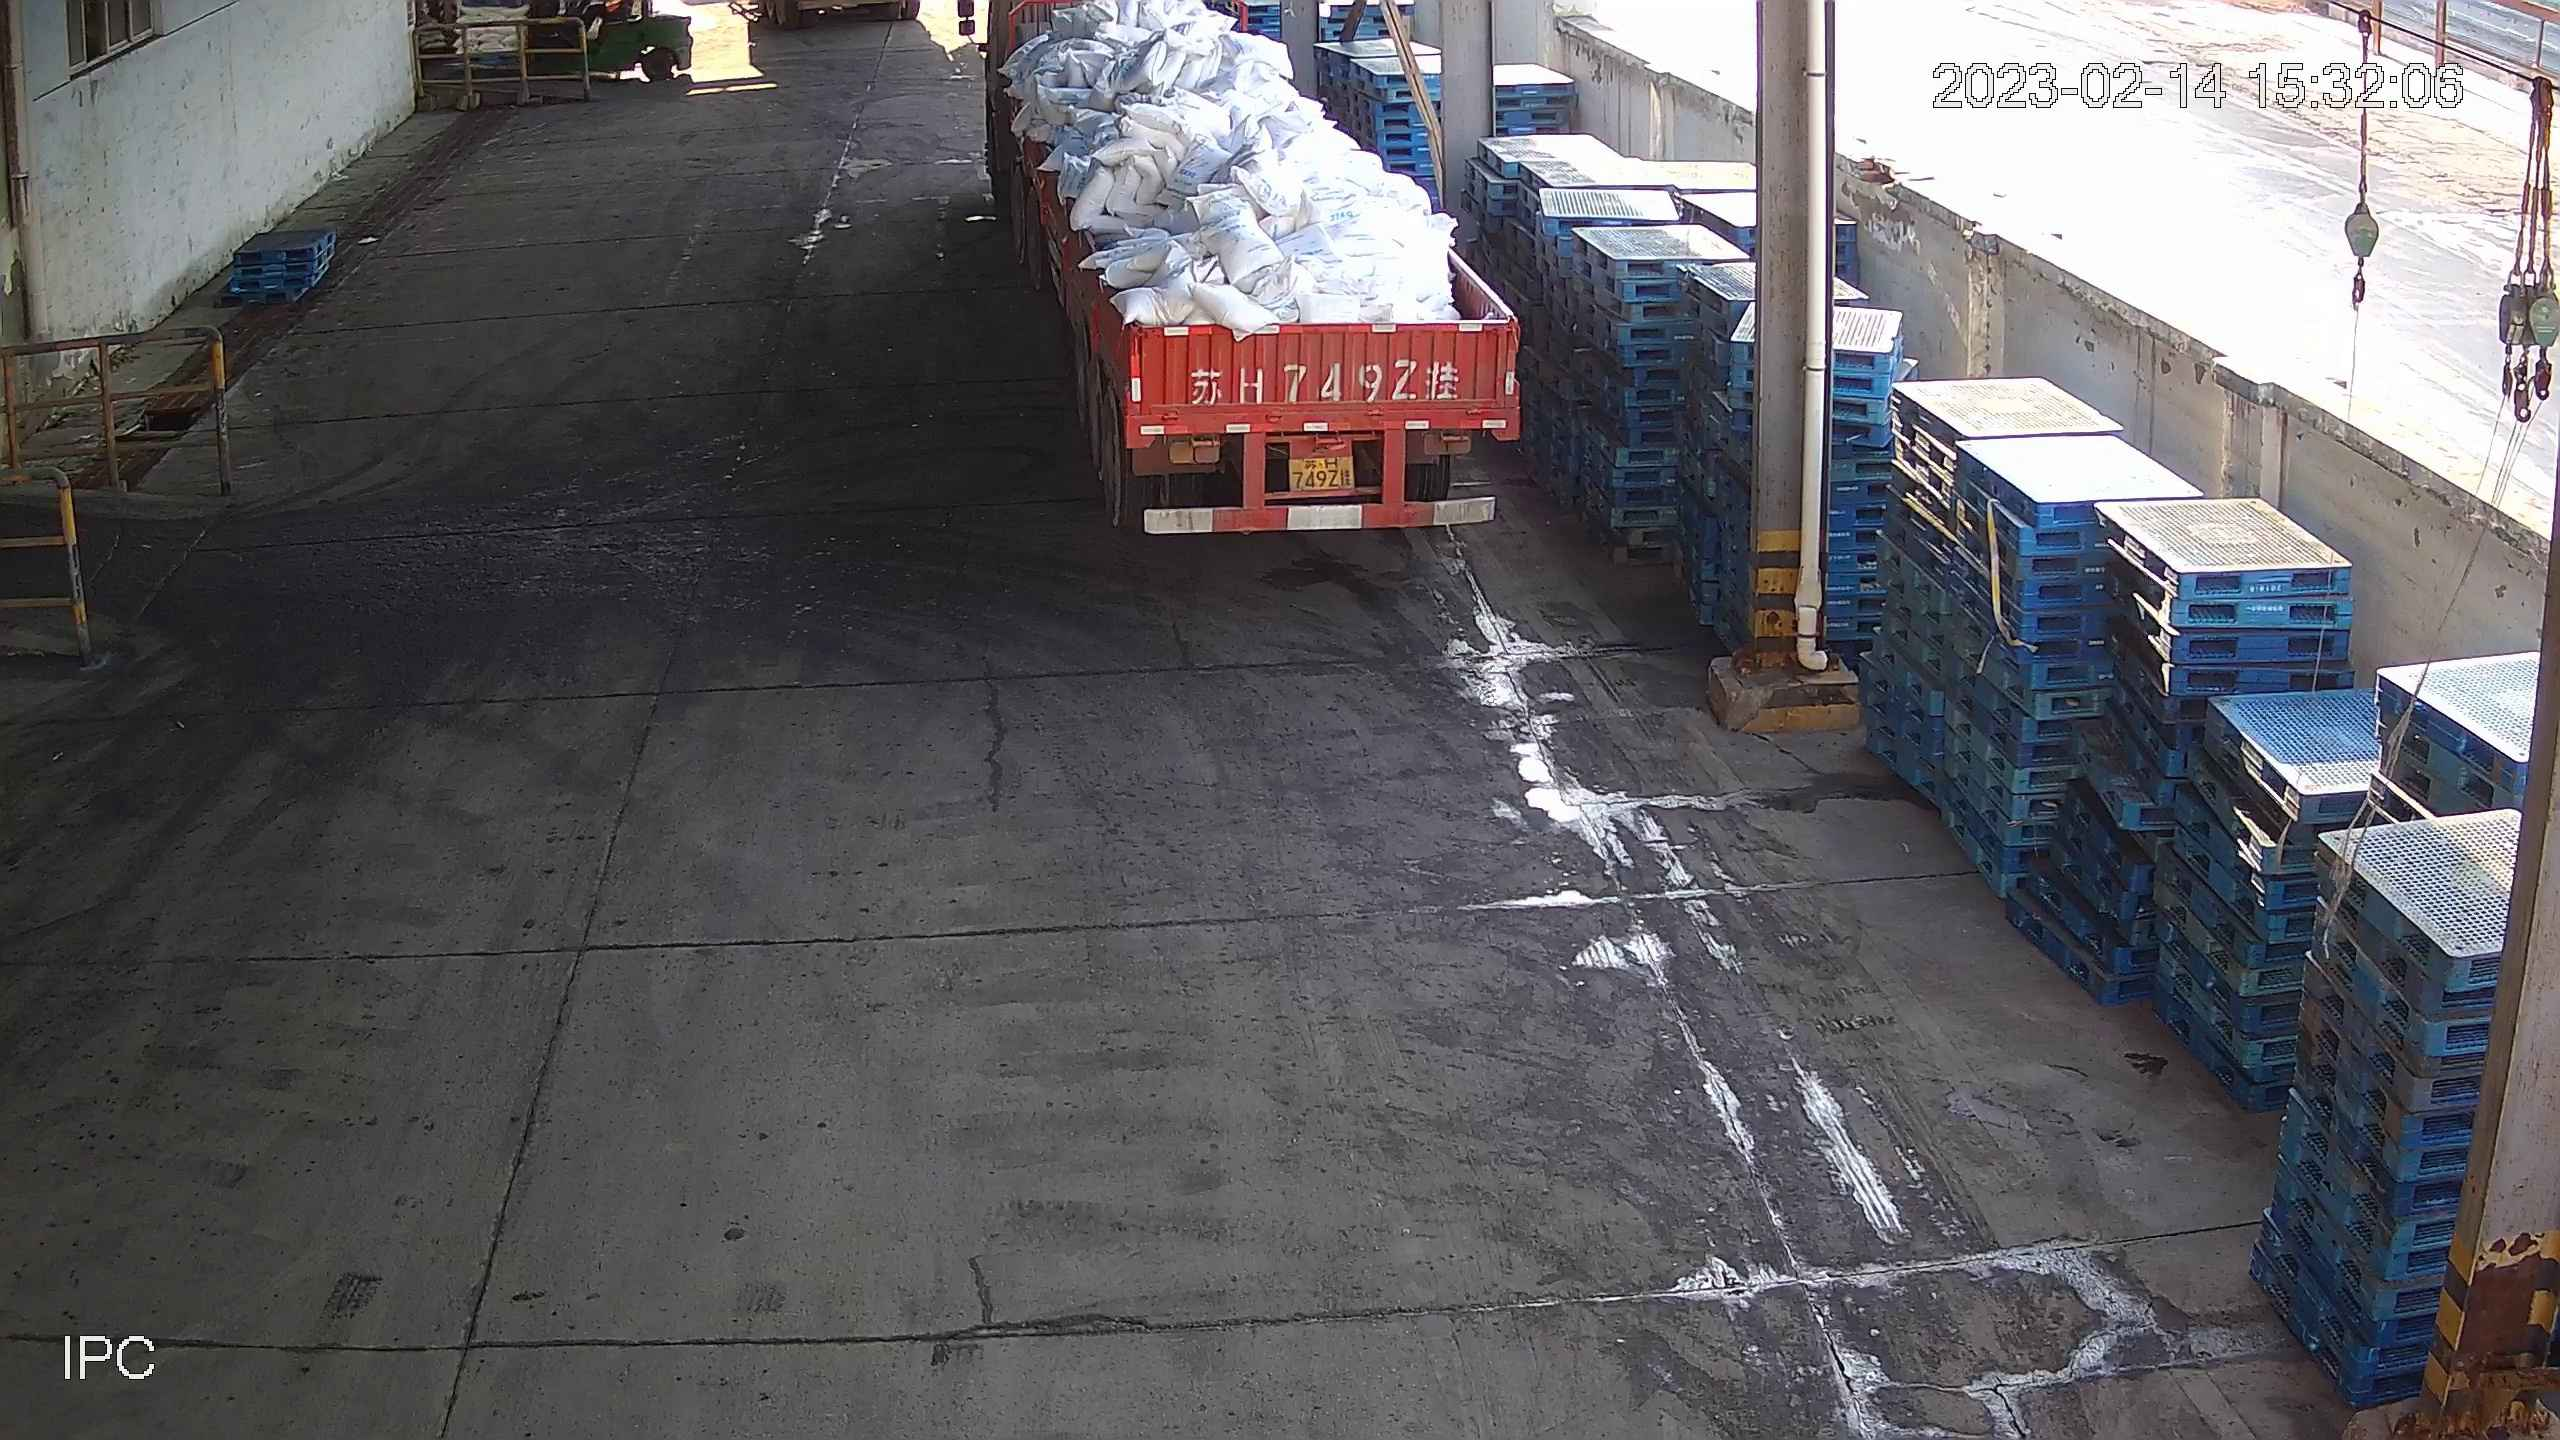truck: (956, 0, 1521, 533)
